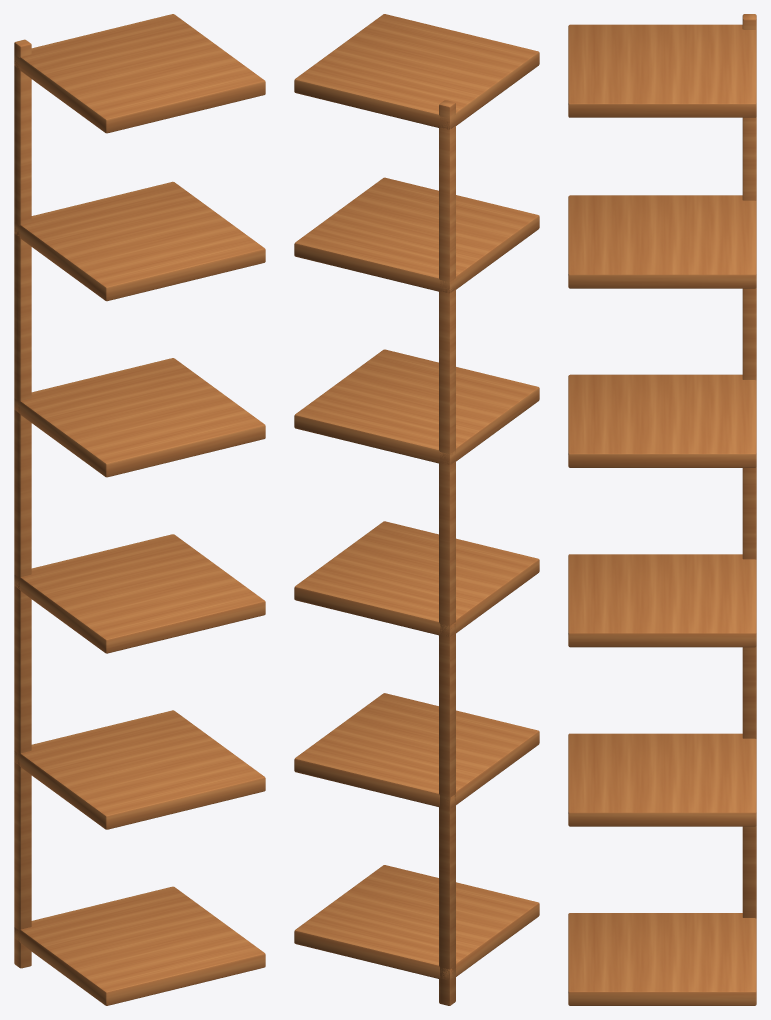
File: SM_Shelf_Pantry_Corner.fbx
3 views of the same model, side by side, from view 1: azimuth 30°, elevation 25°; view 2: azimuth 150°, elevation 25°; view 3: azimuth 270°, elevation 25° (orthographic). The views are drawn at different scales.
Visible parts, largest first — view 1: SM_Shelf_Pantry_Corner; view 2: SM_Shelf_Pantry_Corner; view 3: SM_Shelf_Pantry_Corner.
Boxes of the visible parts, x1,y1,x2,y2 form: SM_Shelf_Pantry_Corner: [14, 14, 265, 1005]; SM_Shelf_Pantry_Corner: [294, 14, 539, 1005]; SM_Shelf_Pantry_Corner: [568, 14, 756, 1005].
Size of what is drawn, in the model's own units: 0.4 by 2.2 by 0.4.
Materials: 1 (1 with a texture image).
